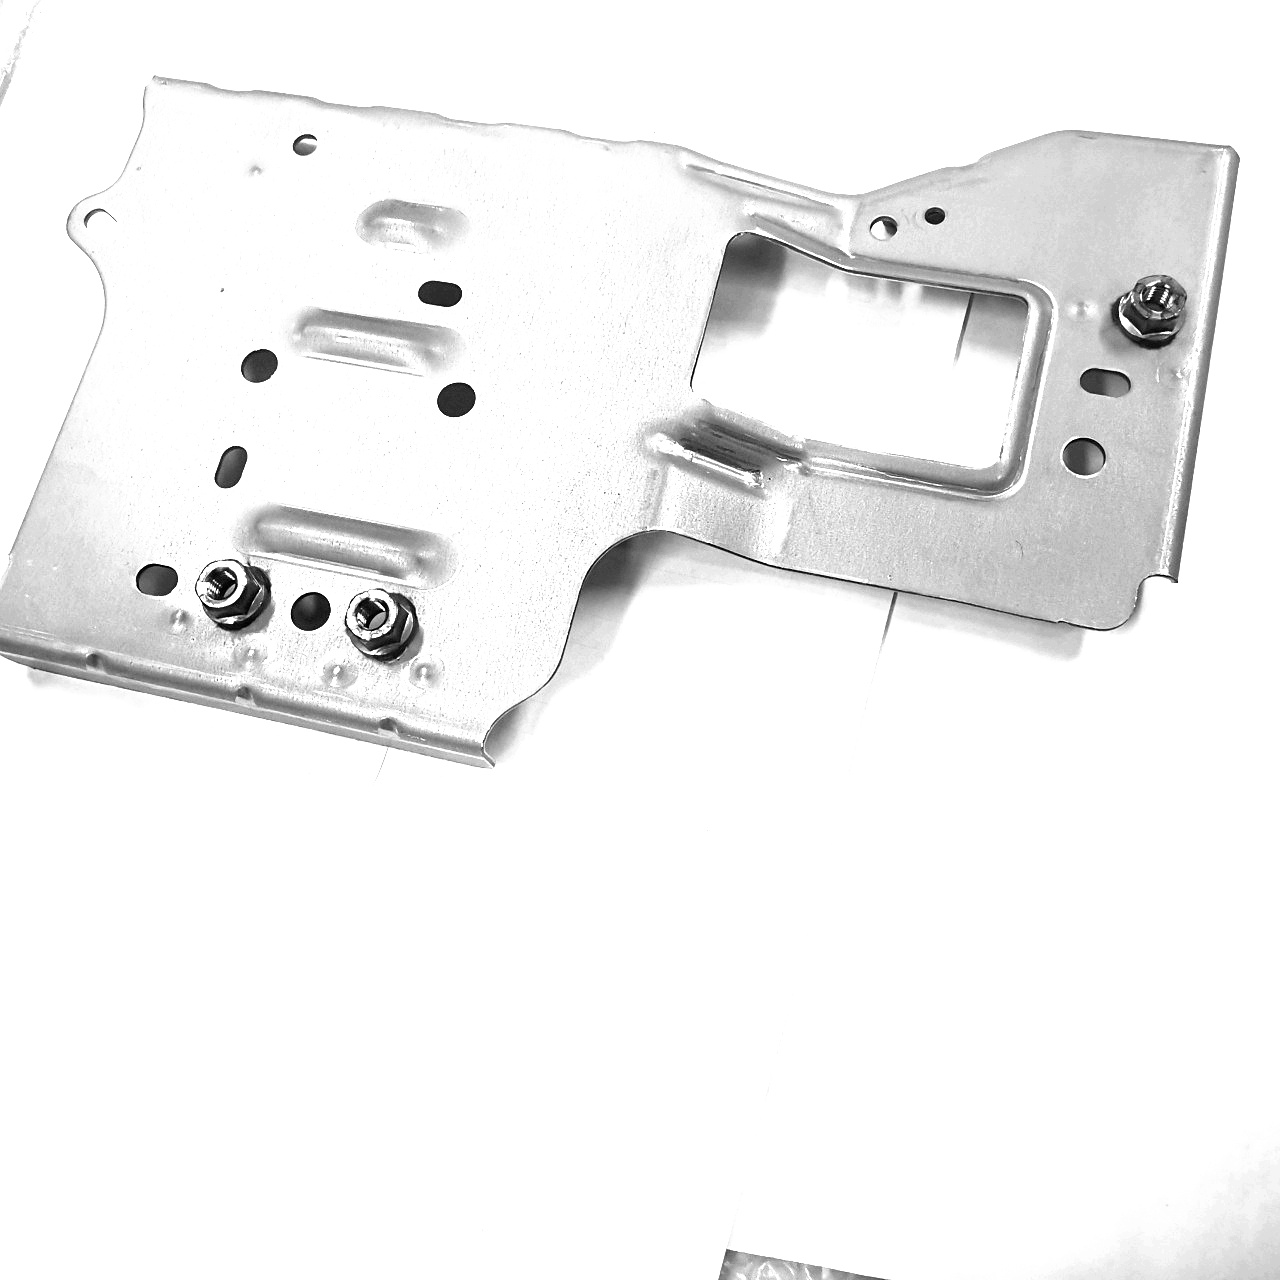dog: (190, 552, 274, 632), (340, 584, 424, 663), (1110, 270, 1189, 350)
